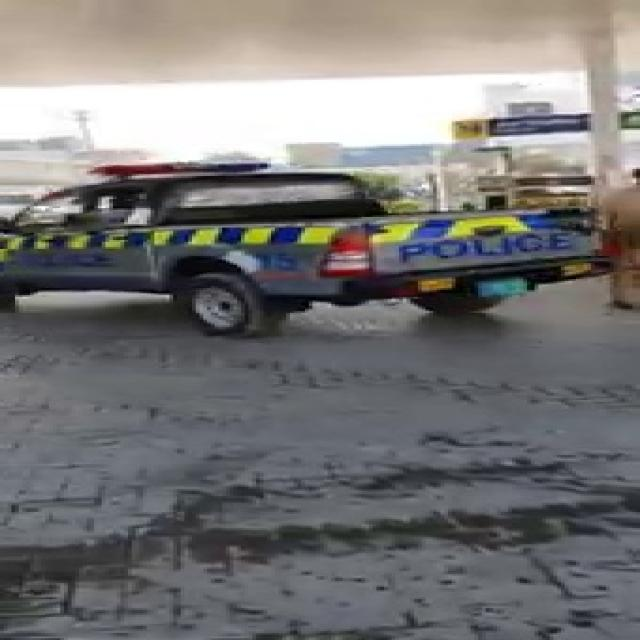police: (8, 148, 628, 347)
